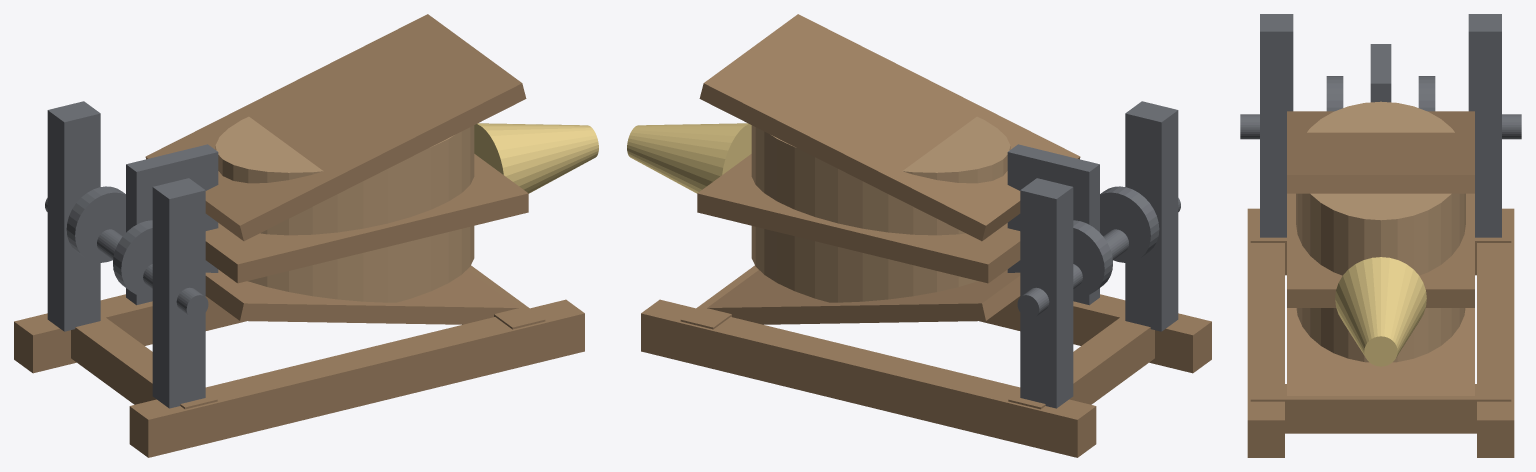
Rendered from mechanical_bellows.glb.
3 views of the same model, side by side, from view 1: azimuth 30°, elevation 25°; view 2: azimuth 150°, elevation 25°; view 3: azimuth 270°, elevation 25° (orthographic).
Visible parts, largest first — view 1: Cube.005, Cube, Cylinder, Cube.004, Cube.007, Cube.008, Cube.006, Cylinder.001, Cone, Cube.001, Cube.002, Cube.009 (+4 smaller); view 2: Cube.005, Cube.001, Cylinder, Cube.004, Cube.008, Cube.007, Cube.006, Cylinder.001, Cone, Cube, Cube.002, Cube.009 (+4 smaller); view 3: Cylinder, Cube.005, Cube.006, Cube.003, Cube, Cube.001, Cone, Cube.007, Cube.008, Cube.004, Cylinder.001, Cube.009 (+4 smaller).
Part boxes in pixels (left/top/right/bottom): Cube.005: left=145, top=14, right=526, bottom=241; Cube: left=129, top=299, right=584, bottom=457; Cylinder: left=215, top=116, right=474, bottom=235; Cube.004: left=205, top=154, right=528, bottom=283; Cube.007: left=152, top=178, right=205, bottom=408; Cube.008: left=47, top=101, right=100, bottom=331; Cube.006: left=205, top=269, right=518, bottom=324; Cylinder.001: left=248, top=226, right=474, bottom=302; Cone: left=474, top=123, right=598, bottom=193; Cube.001: left=14, top=294, right=246, bottom=373; Cube.002: left=71, top=314, right=217, bottom=409; Cube.009: left=126, top=144, right=218, bottom=305; Cube.005: left=699, top=14, right=1080, bottom=241; Cube.001: left=641, top=299, right=1096, bottom=457; Cylinder: left=751, top=116, right=1010, bottom=235; Cube.004: left=697, top=154, right=1020, bottom=283; Cube.008: left=1020, top=178, right=1073, bottom=408; Cube.007: left=1125, top=101, right=1178, bottom=331; Cube.006: left=707, top=269, right=1020, bottom=324; Cylinder.001: left=751, top=226, right=977, bottom=302; Cone: left=627, top=123, right=751, bottom=193; Cube: left=979, top=294, right=1211, bottom=373; Cube.002: left=1008, top=314, right=1154, bottom=409; Cube.009: left=1007, top=144, right=1099, bottom=305; Cylinder: left=1296, top=101, right=1465, bottom=275; Cube.005: left=1287, top=111, right=1474, bottom=193; Cube.006: left=1287, top=308, right=1474, bottom=395; Cube.003: left=1250, top=384, right=1511, bottom=433; Cube: left=1247, top=208, right=1284, bottom=457; Cube.001: left=1477, top=208, right=1514, bottom=457; Cone: left=1335, top=257, right=1426, bottom=366; Cube.007: left=1260, top=14, right=1293, bottom=237; Cube.008: left=1468, top=14, right=1501, bottom=237; Cube.004: left=1287, top=193, right=1474, bottom=307; Cylinder.001: left=1296, top=308, right=1465, bottom=362; Cube.009: left=1370, top=44, right=1391, bottom=102.
Bounding box in the file's own units: 2.8 × 1.39 × 1.35.
